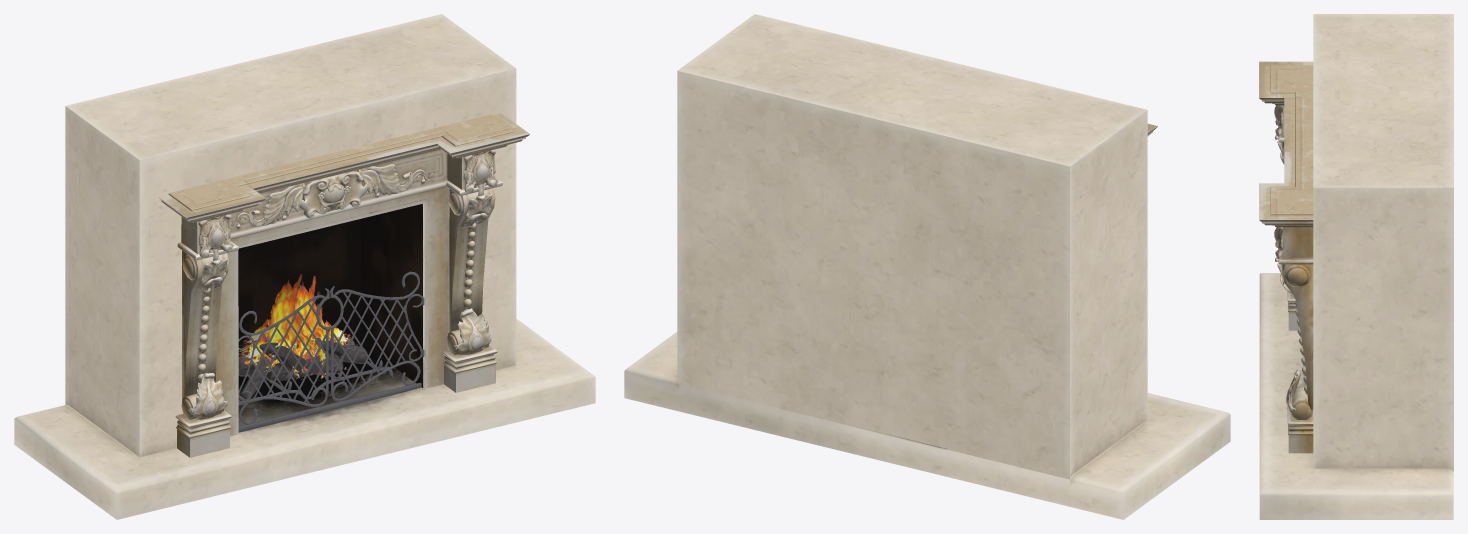
The model's file is fireplace.glb.
3 renders of one model, left to right at view 1: azimuth 30°, elevation 25°; view 2: azimuth 150°, elevation 25°; view 3: azimuth 270°, elevation 25°, orthographic. The views are drawn at different scales.
Visible parts, largest first — view 1: zhuti-low, object 31, object 14, object 28, defaultMaterial.027, zao-low, object 13, object 15, object 12, hua-low, object 29, object 30 (+3 smaller); view 2: zhuti-low; view 3: zhuti-low, object 14, object 13, defaultMaterial.027, object 12, object 15, object 29, object 11, object 30.
Part boxes in pixels (x1,y1,x2,y2): zhuti-low: (14,14,595,519); object 31: (215,187,449,436); object 14: (158,113,529,222); object 28: (238,271,424,424); defaultMaterial.027: (182,188,495,400); zao-low: (238,337,421,432); object 13: (175,327,497,457); object 15: (188,194,492,419); object 12: (181,149,494,253); hua-low: (263,164,400,225); object 29: (198,149,497,260); object 30: (177,178,502,260); zhuti-low: (624,14,1230,519); zhuti-low: (1259,14,1453,519); object 14: (1259,61,1313,227); object 13: (1287,291,1313,453); defaultMaterial.027: (1282,142,1313,409); object 12: (1282,105,1313,257); object 15: (1275,135,1300,412); object 29: (1274,105,1282,259); object 11: (1284,264,1310,286); object 30: (1278,121,1313,264).
Size of the model in its own units: 2 by 1.3 by 0.7454.
4 materials, 4 textured.
